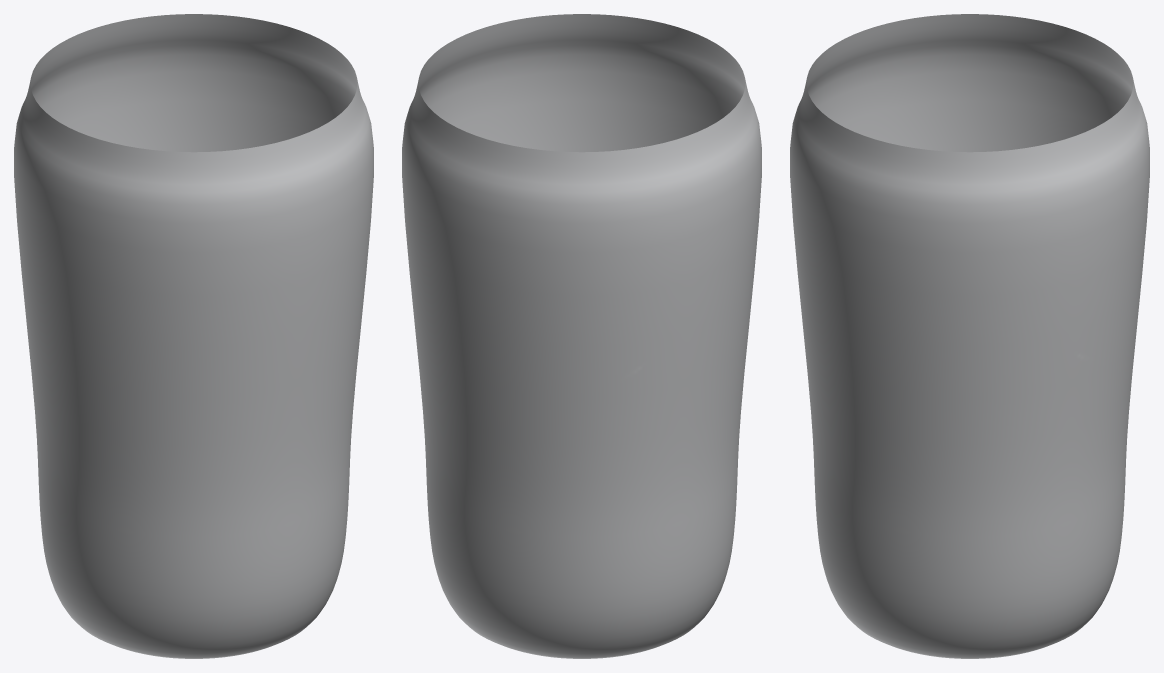
The model's file is Glass.fbx.
The picture shows the model from 3 angles, left to right: view 1: azimuth 30°, elevation 25°; view 2: azimuth 150°, elevation 25°; view 3: azimuth 270°, elevation 25°; orthographic projection.
Parts seen in each view (by area): view 1: Cylinder001; view 2: Cylinder001; view 3: Cylinder001.
Part boxes in pixels (x1=…): Cylinder001: x1=14, y1=14, x2=373, y2=658; Cylinder001: x1=402, y1=14, x2=761, y2=658; Cylinder001: x1=790, y1=14, x2=1149, y2=658.
Size of the model in its own units: 8.68 by 14.06 by 8.68.
